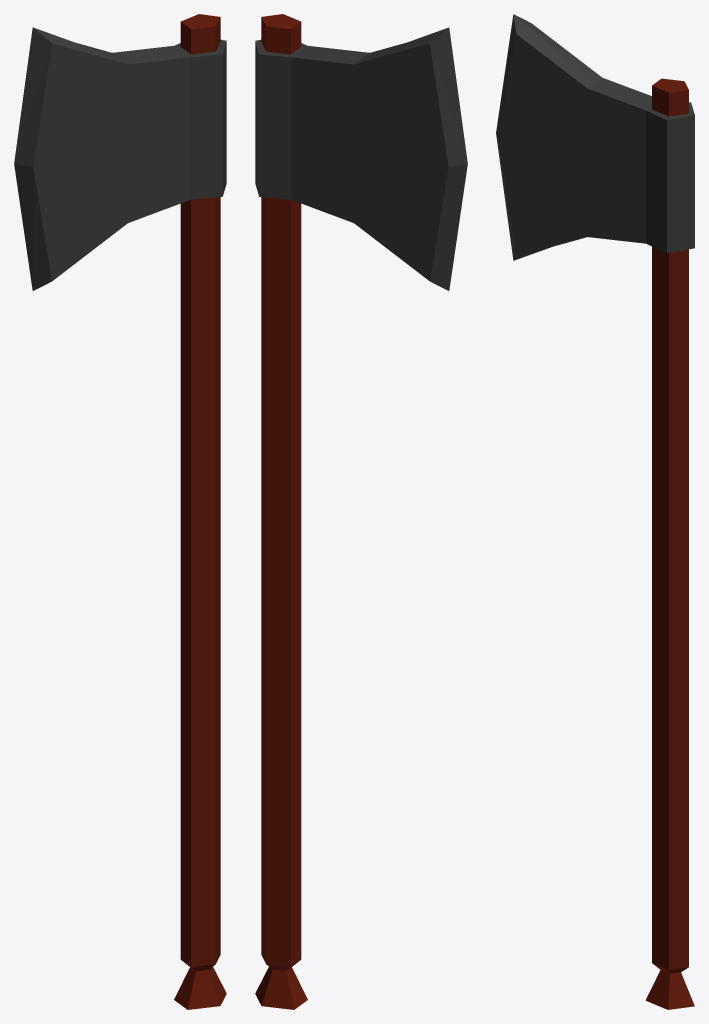
The model's file is Axe_001.fbx.
3 views of the same model, side by side, from view 1: azimuth 30°, elevation 25°; view 2: azimuth 150°, elevation 25°; view 3: azimuth 330°, elevation 25° (orthographic). The views are drawn at different scales.
Visible parts, largest first — view 1: Axe_001; view 2: Axe_001; view 3: Axe_001.
Boxes of the visible parts, bbox=[...] form: Axe_001: bbox=[14, 14, 226, 1009]; Axe_001: bbox=[255, 14, 467, 1009]; Axe_001: bbox=[496, 14, 694, 1009].
Bounding box in the file's own units: 0.3332 × 1.52 × 0.0702.
